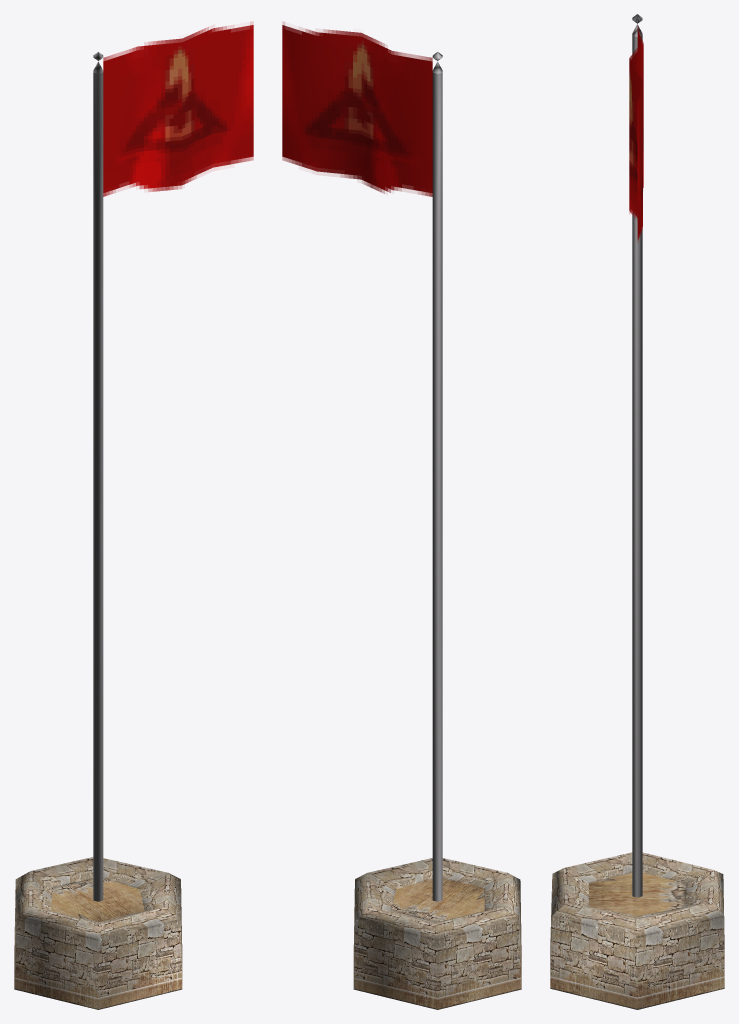
File: BSFLGRED.glb
The picture shows the model from 3 angles, left to right: view 1: azimuth 30°, elevation 25°; view 2: azimuth 150°, elevation 25°; view 3: azimuth 270°, elevation 25°; orthographic projection. The views are drawn at different scales.
Visible parts, largest first — view 1: _BSFLGRED; view 2: _BSFLGRED; view 3: _BSFLGRED.
Boxes of the visible parts, <box> form: _BSFLGRED: <box>14,22,253,1009</box>; _BSFLGRED: <box>282,22,521,1009</box>; _BSFLGRED: <box>550,14,724,1009</box>.
Bounding box in the file's own units: 4.09 × 15 × 2.49.
Materials: 3 (3 with a texture image).
